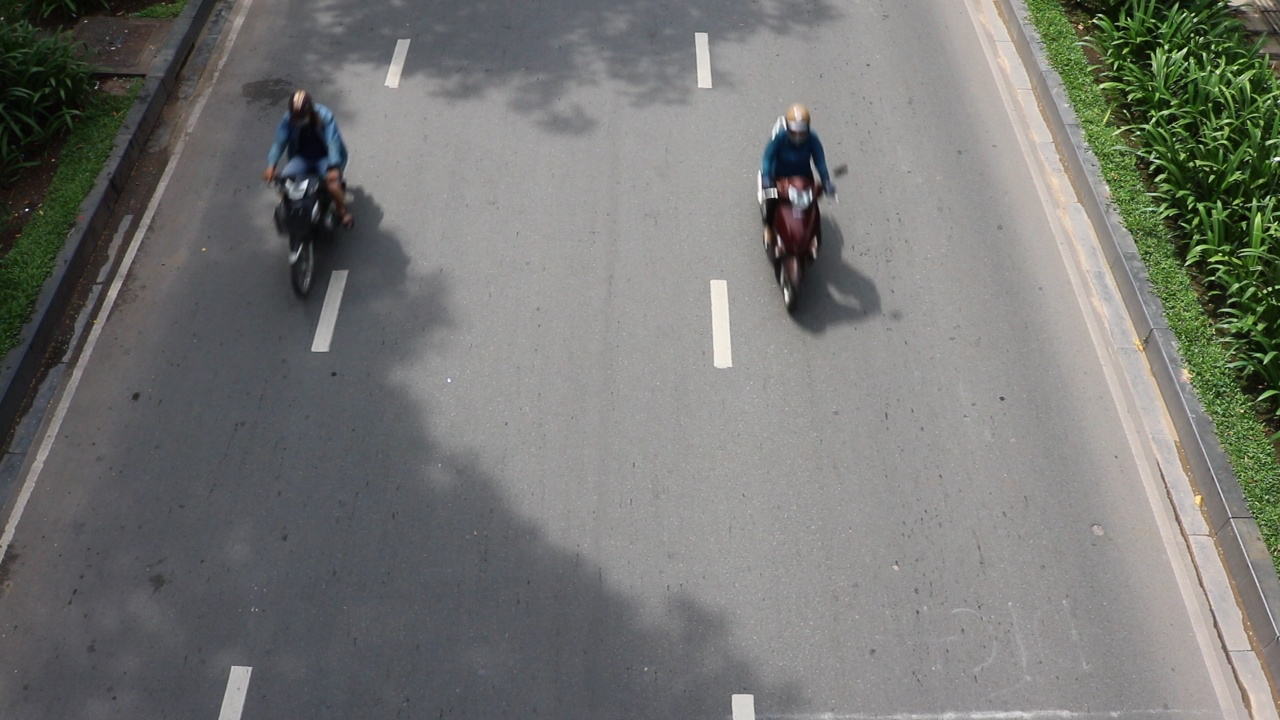motorcycle: (759, 167, 837, 313), (265, 161, 343, 297)
